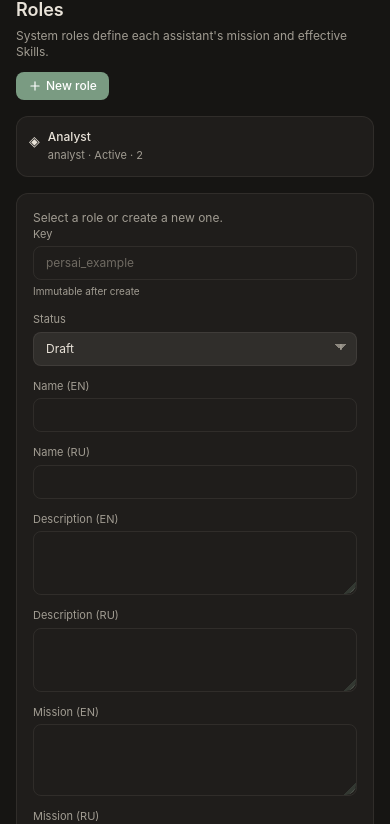
Test: AdminRolesPage integration › sends exact preview and renders exact server blocks
Click the button "◈ Analyst analyst · Active · 2" at (69, 136), box top-left (17, 117), bottom-right (373, 176)
(page scrolled)
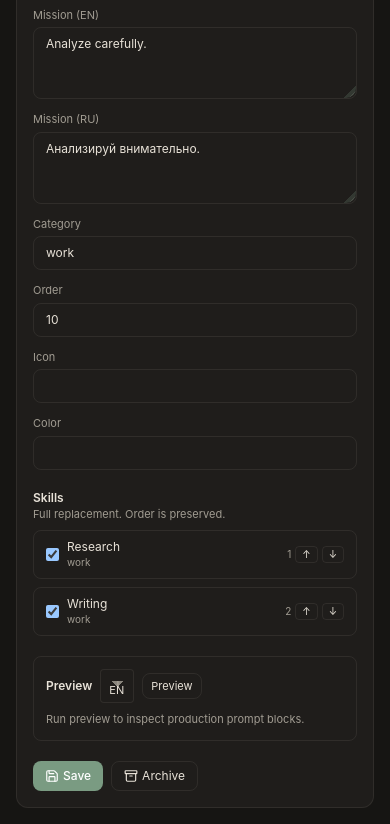
Select "RU" in the dropdown named "Preview locale" at (117, 686), box top-left (100, 669), bottom-right (134, 703)
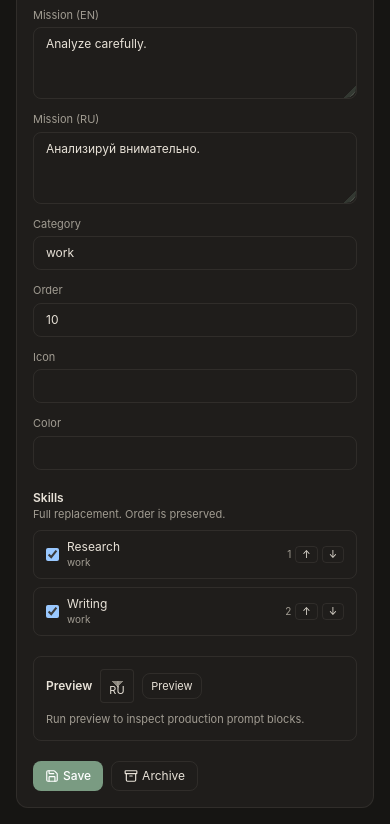
Click the button "Preview" at (172, 686), box top-left (142, 673), bottom-right (202, 699)
(page scrolled)
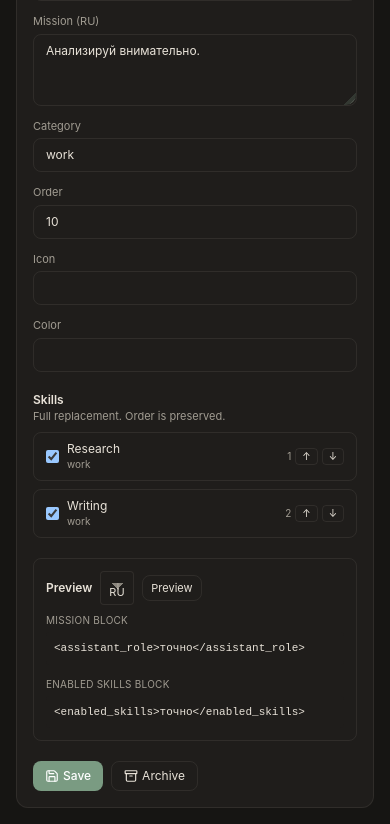
Expected: the text "<assistant_role>точно</assistant_role>" is shown, top-left (46, 632), bottom-right (344, 664)
Expected: the text "<enabled_skills>точно</enabled_skills>" is shown, top-left (46, 696), bottom-right (344, 728)
